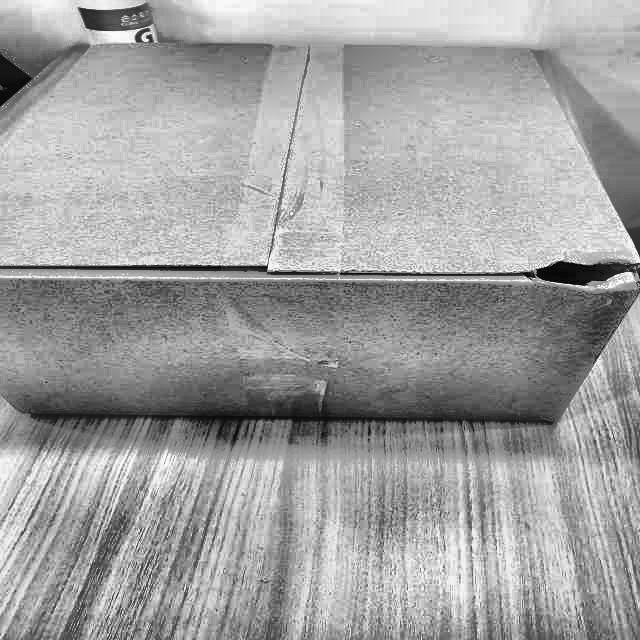box: (0, 35, 639, 429)
hole: (515, 250, 640, 298)
